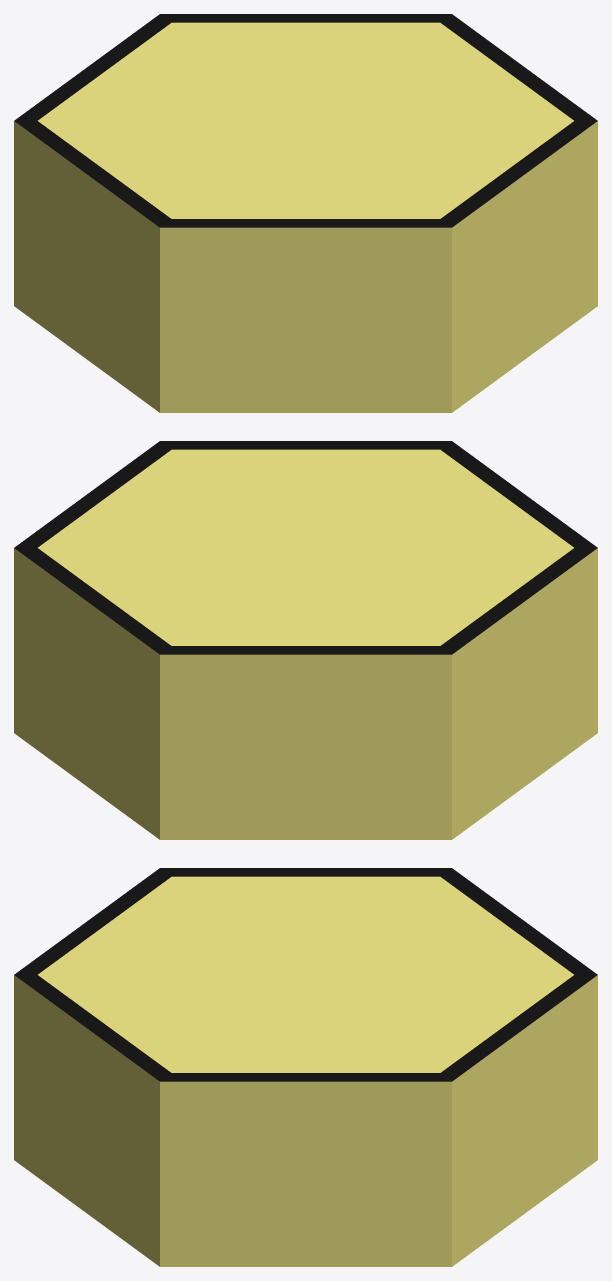
Rendered from 1tile1.glb.
The picture shows the model from 3 angles, top to bottom: view 1: azimuth 30°, elevation 25°; view 2: azimuth 150°, elevation 25°; view 3: azimuth 270°, elevation 25°; orthographic projection.
Parts seen in each view (by area): view 1: PalmHalfTile; view 2: PalmHalfTile; view 3: PalmHalfTile.
Part boxes in pixels (x1,y1,x2,y2): PalmHalfTile: [14, 14, 597, 412]; PalmHalfTile: [14, 441, 597, 839]; PalmHalfTile: [14, 868, 597, 1266].
Bounding box in the file's own units: 1.73 × 0.7 × 2.
1 material, 1 textured.
